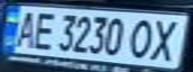0: (106, 15, 130, 57)
2: (72, 12, 93, 54)
3: (54, 11, 78, 53), (90, 12, 109, 55)
A: (9, 8, 42, 50)
E: (27, 9, 57, 51)
O: (124, 16, 160, 61)
X: (145, 16, 187, 63)
